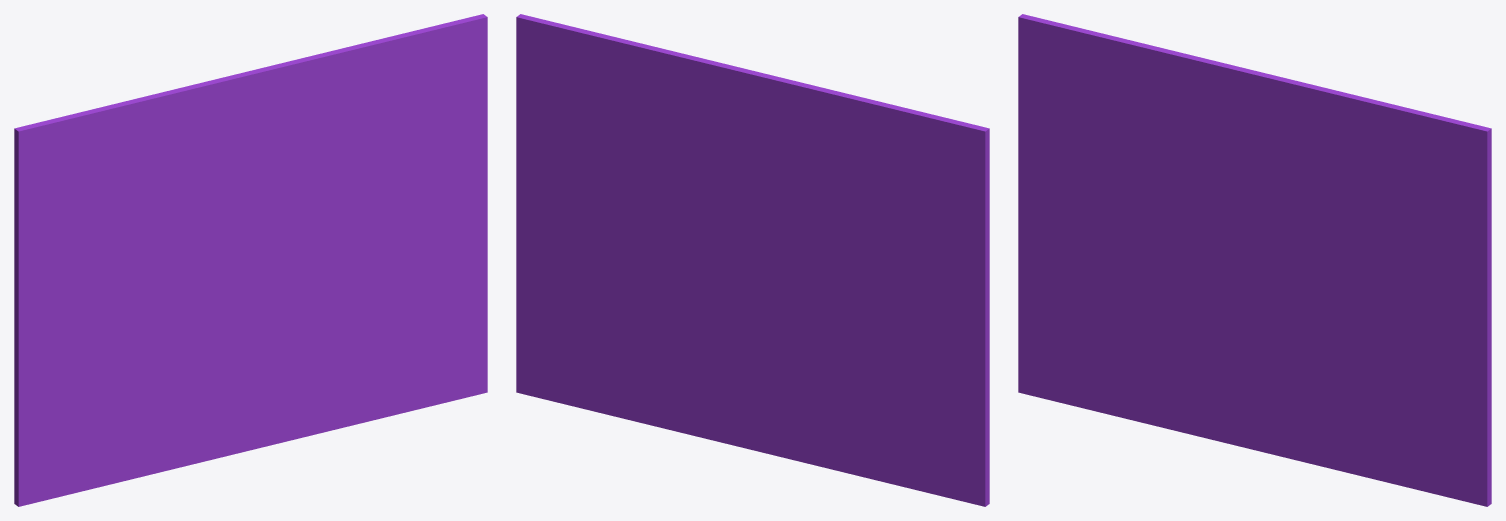
The model's file is Glass_2_chunks.fbx.
3 views of the same model, side by side, from view 1: azimuth 30°, elevation 25°; view 2: azimuth 150°, elevation 25°; view 3: azimuth 330°, elevation 25° (orthographic).
Parts seen in each view (by area): view 1: Glass_2_0, Glass_2_1, Glass_2_2, Glass_2_3, Glass_2_6, Glass_2_4; view 2: Glass_2_0, Glass_2_1, Glass_2_2, Glass_2_3, Glass_2_6, Glass_2_4; view 3: Glass_2_0, Glass_2_1, Glass_2_2, Glass_2_3, Glass_2_6, Glass_2_4.
Boxes of the visible parts, <box> form: Glass_2_0: <box>14,230,270,506</box>; Glass_2_1: <box>250,217,487,445</box>; Glass_2_2: <box>269,14,487,246</box>; Glass_2_3: <box>195,28,437,262</box>; Glass_2_6: <box>14,63,282,182</box>; Glass_2_4: <box>14,179,219,259</box>; Glass_2_0: <box>728,232,989,506</box>; Glass_2_1: <box>516,243,746,443</box>; Glass_2_2: <box>516,14,753,274</box>; Glass_2_3: <box>570,26,802,260</box>; Glass_2_6: <box>719,64,989,182</box>; Glass_2_4: <box>783,180,989,256</box>; Glass_2_0: <box>1018,121,1270,453</box>; Glass_2_1: <box>1250,254,1491,506</box>; Glass_2_2: <box>1268,114,1491,353</box>; Glass_2_3: <box>1195,79,1437,261</box>; Glass_2_6: <box>1018,14,1287,154</box>; Glass_2_4: <box>1018,68,1219,242</box>.
Bounding box in the file's own units: 1728 × 1321 × 27.2.
